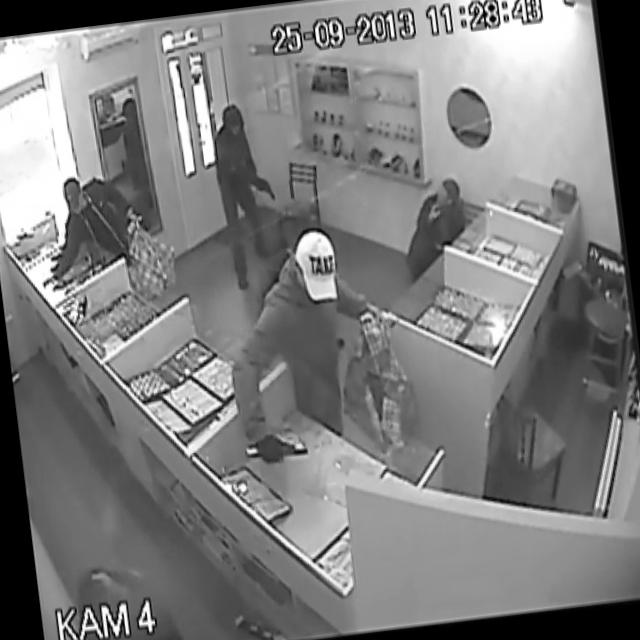gun: (250, 158, 284, 212)
person: (230, 224, 392, 416), (381, 165, 478, 268), (49, 159, 151, 246)
person with a gun: (202, 100, 297, 286)
